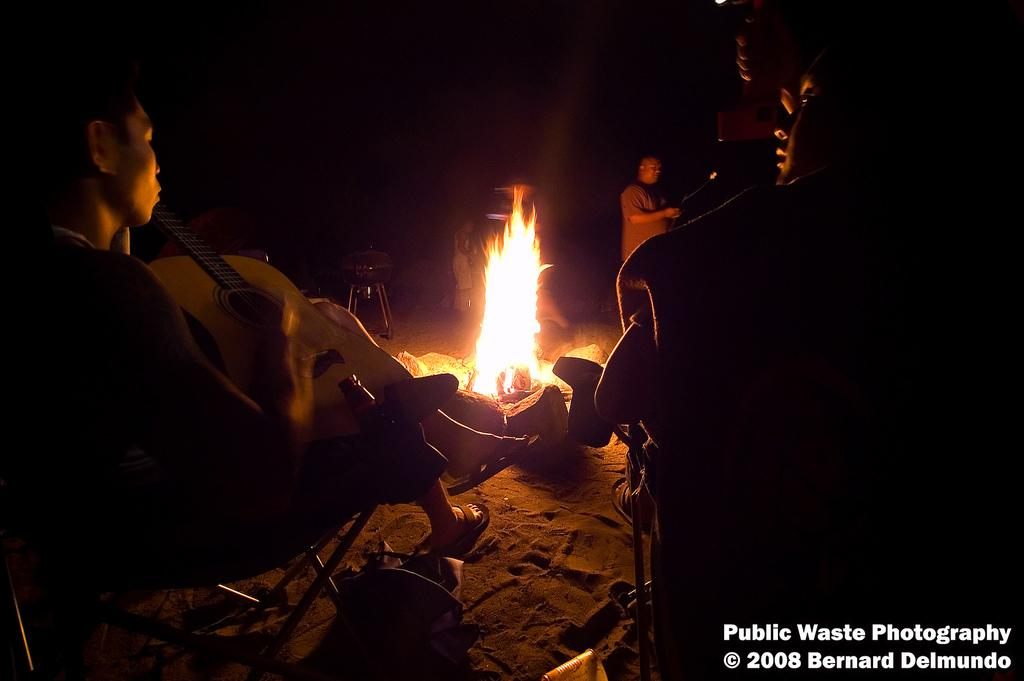fire: (487, 242, 533, 370)
